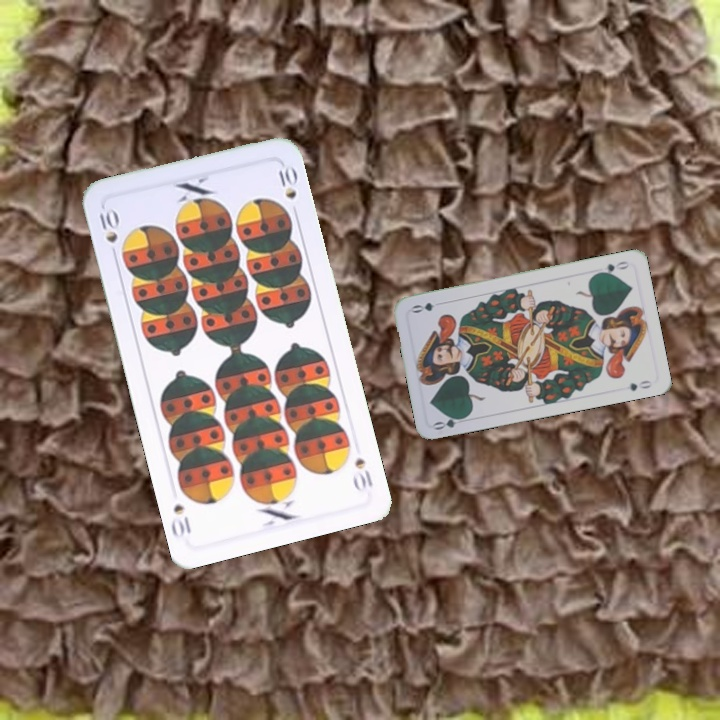GO: (430, 412, 470, 433), (592, 257, 632, 277)
S10: (95, 204, 122, 262), (349, 453, 375, 495)
